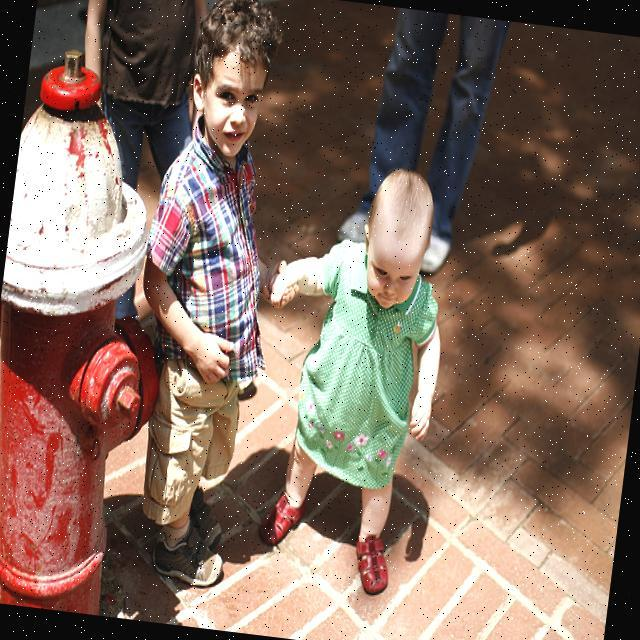fire_hydrant: (0, 39, 198, 617)
